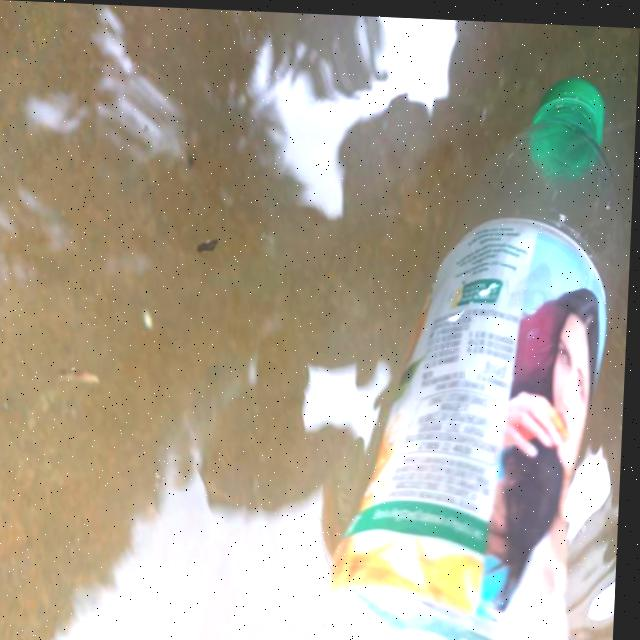waterbottle: (332, 14, 640, 640)
